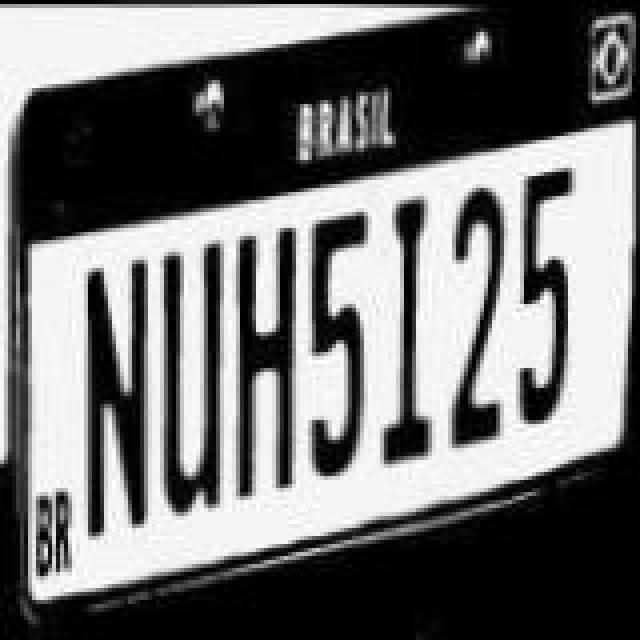2: (436, 178, 516, 462)
5: (302, 202, 378, 486), (512, 164, 584, 432)
H: (228, 220, 308, 508)
I: (372, 186, 444, 474)
N: (82, 256, 162, 564)
U: (154, 234, 234, 534)
